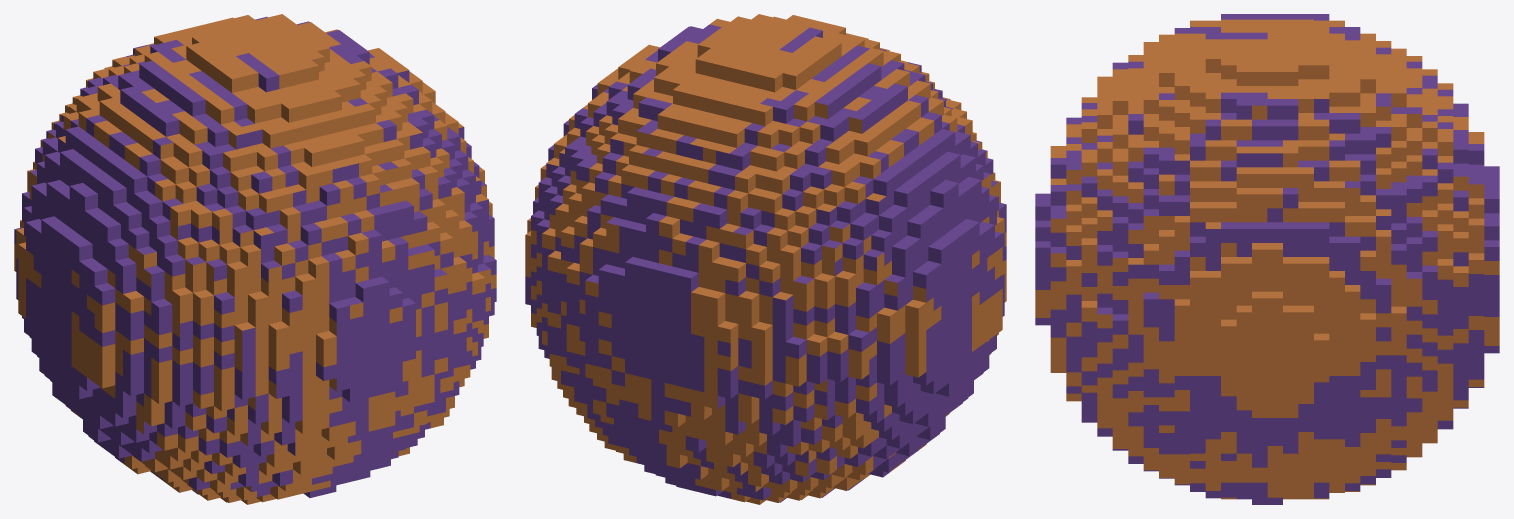
File: planet6.fbx
3 renders of one model, left to right at view 1: azimuth 30°, elevation 25°; view 2: azimuth 150°, elevation 25°; view 3: azimuth 270°, elevation 25°, orthographic.
Parts seen in each view (by area): view 1: MASH1_ReproMesh; view 2: MASH1_ReproMesh; view 3: MASH1_ReproMesh.
Part boxes in pixels (left/top/right/bottom): MASH1_ReproMesh: left=14, top=14, right=496, bottom=504; MASH1_ReproMesh: left=525, top=14, right=1006, bottom=504; MASH1_ReproMesh: left=1035, top=14, right=1499, bottom=504.
Bounding box in the file's own units: 30 × 30 × 30.
